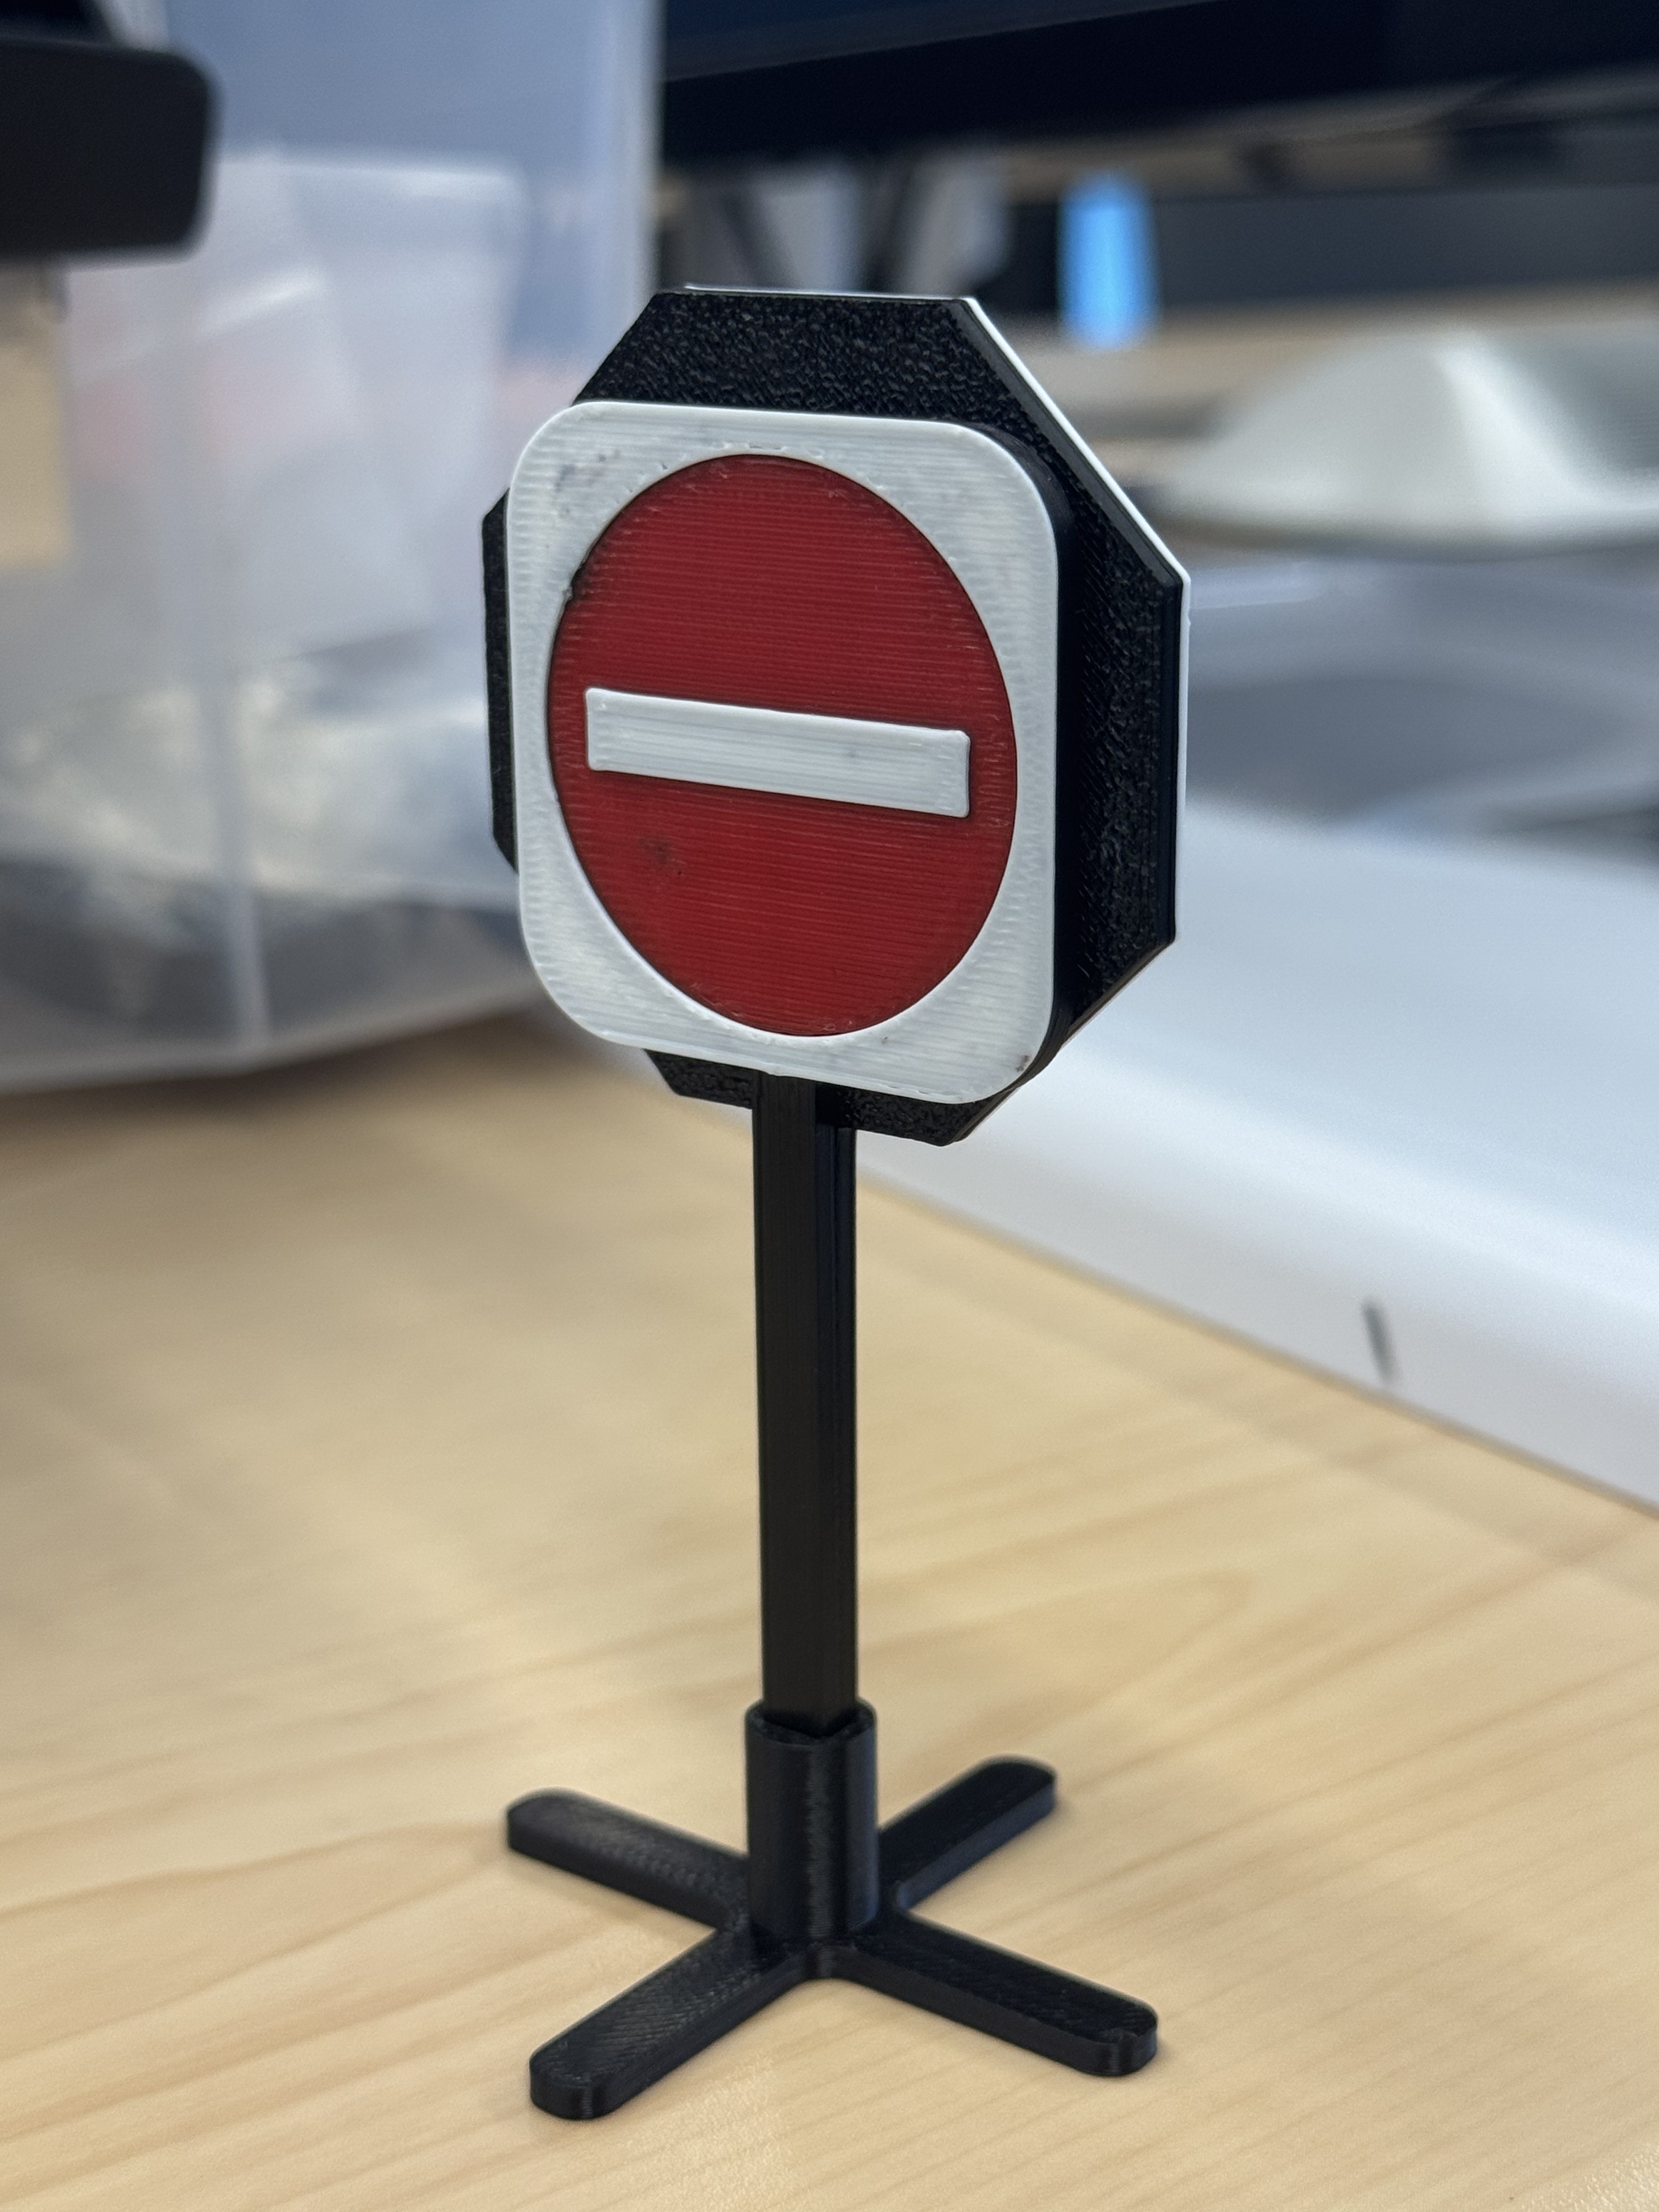sign_noentry: (474, 275, 1194, 2130)
